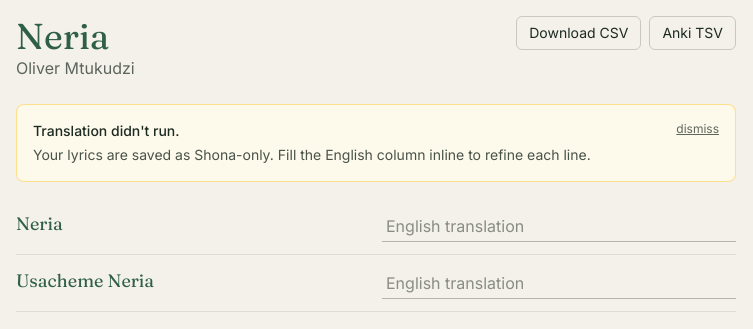
Test: SongEditor › hides the banner once dismissed
Step 1. Click the button with aria-label "Dismiss banner" → (698, 129), box x1=676 y1=121 x2=719 y2=137
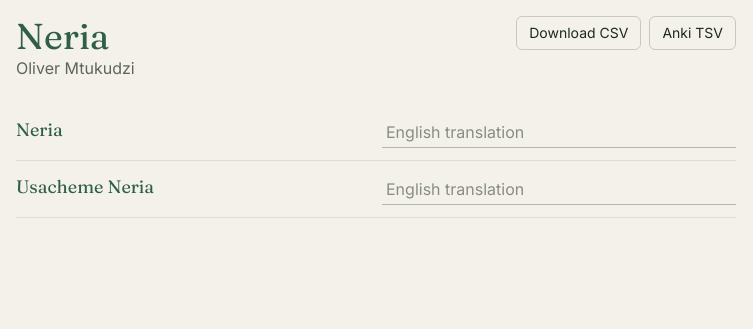
expect the message is gone: met
